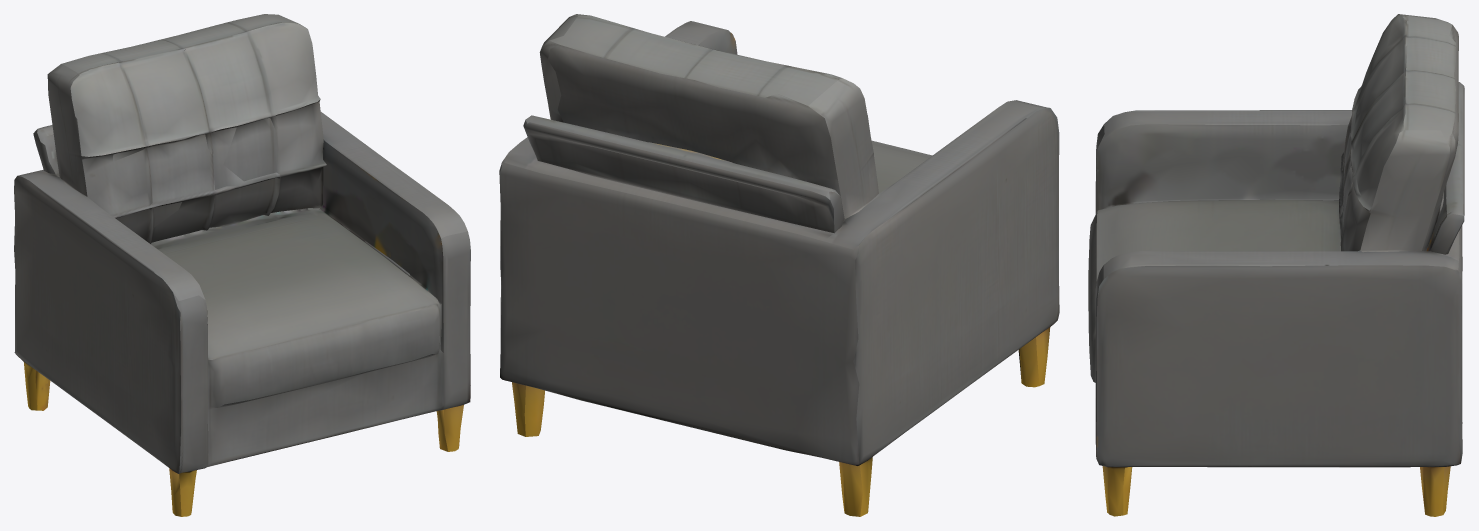
Rendered from Fauteuil1_3D_textured.glb.
The picture shows the model from 3 angles, left to right: view 1: azimuth 30°, elevation 25°; view 2: azimuth 150°, elevation 25°; view 3: azimuth 270°, elevation 25°; orthographic projection. The views are drawn at different scales.
Parts seen in each view (by area): view 1: temp_mesh.ply; view 2: temp_mesh.ply; view 3: temp_mesh.ply.
Part boxes in pixels (x1,y1,x2,y2): temp_mesh.ply: [14, 14, 470, 516]; temp_mesh.ply: [499, 14, 1059, 516]; temp_mesh.ply: [1088, 14, 1464, 516].
Size of the model in its own units: 1.8 by 1.97 by 1.81.
1 material, 1 textured.
